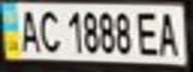1: (60, 7, 84, 53)
8: (78, 7, 100, 54), (115, 8, 136, 55), (97, 8, 118, 54)
A: (154, 8, 184, 57), (15, 6, 42, 54)
C: (36, 6, 63, 53)
E: (133, 8, 163, 57)
